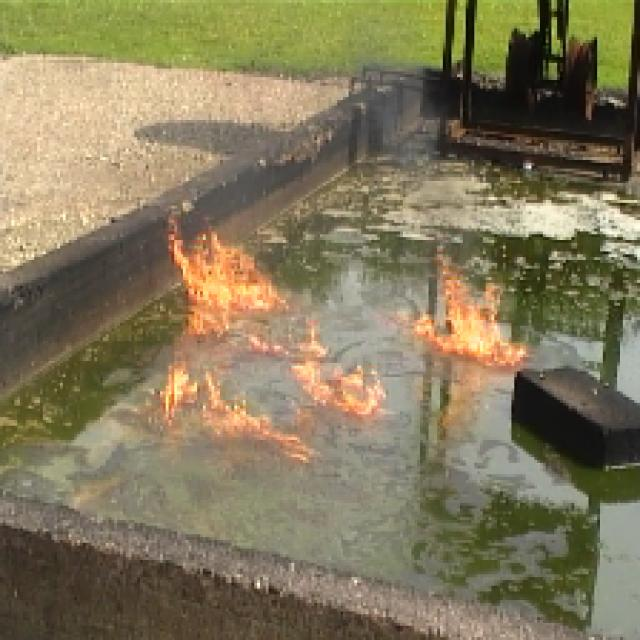fire: (172, 234, 276, 320), (425, 280, 512, 359)
